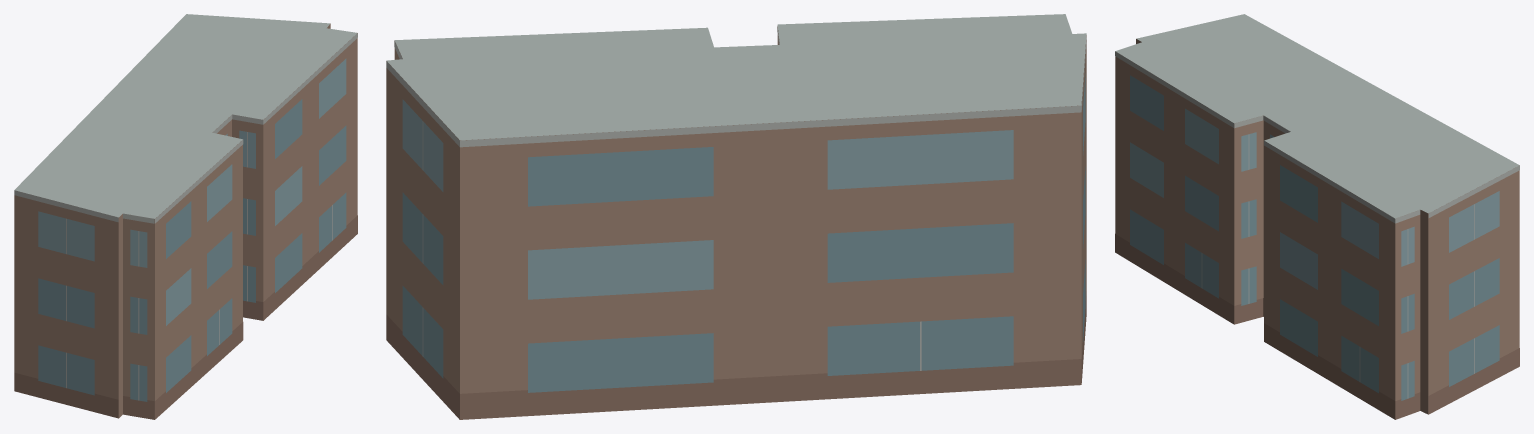
The model's file is survey-upis-32526245.glb.
3 views of the same model, side by side, from view 1: azimuth 30°, elevation 25°; view 2: azimuth 150°, elevation 25°; view 3: azimuth 270°, elevation 25° (orthographic). The views are drawn at different scales.
Parts seen in each view (by area): view 1: survey-upis-32526245.tmp; view 2: survey-upis-32526245.tmp; view 3: survey-upis-32526245.tmp.
Boxes of the visible parts, x1,y1,x2,y2 form: survey-upis-32526245.tmp: [14, 14, 357, 419]; survey-upis-32526245.tmp: [386, 14, 1086, 419]; survey-upis-32526245.tmp: [1115, 14, 1519, 419].
Size of the model in its own units: 21.6 by 9.9 by 18.05.
